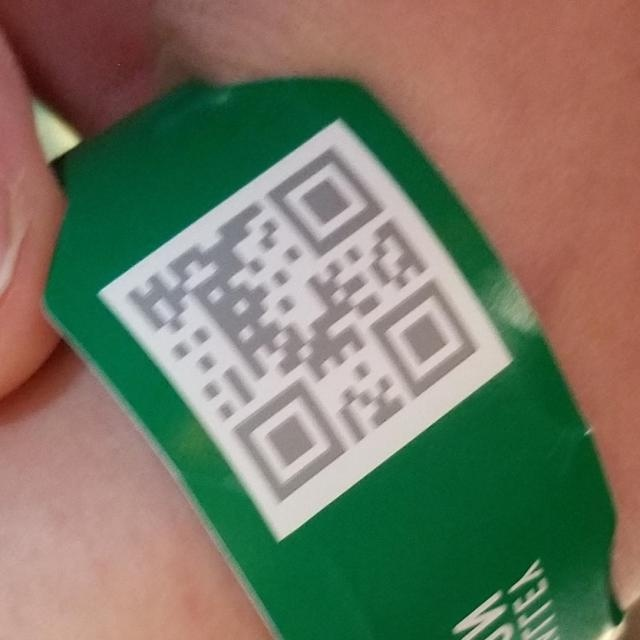qr-code: (119, 138, 485, 522)
